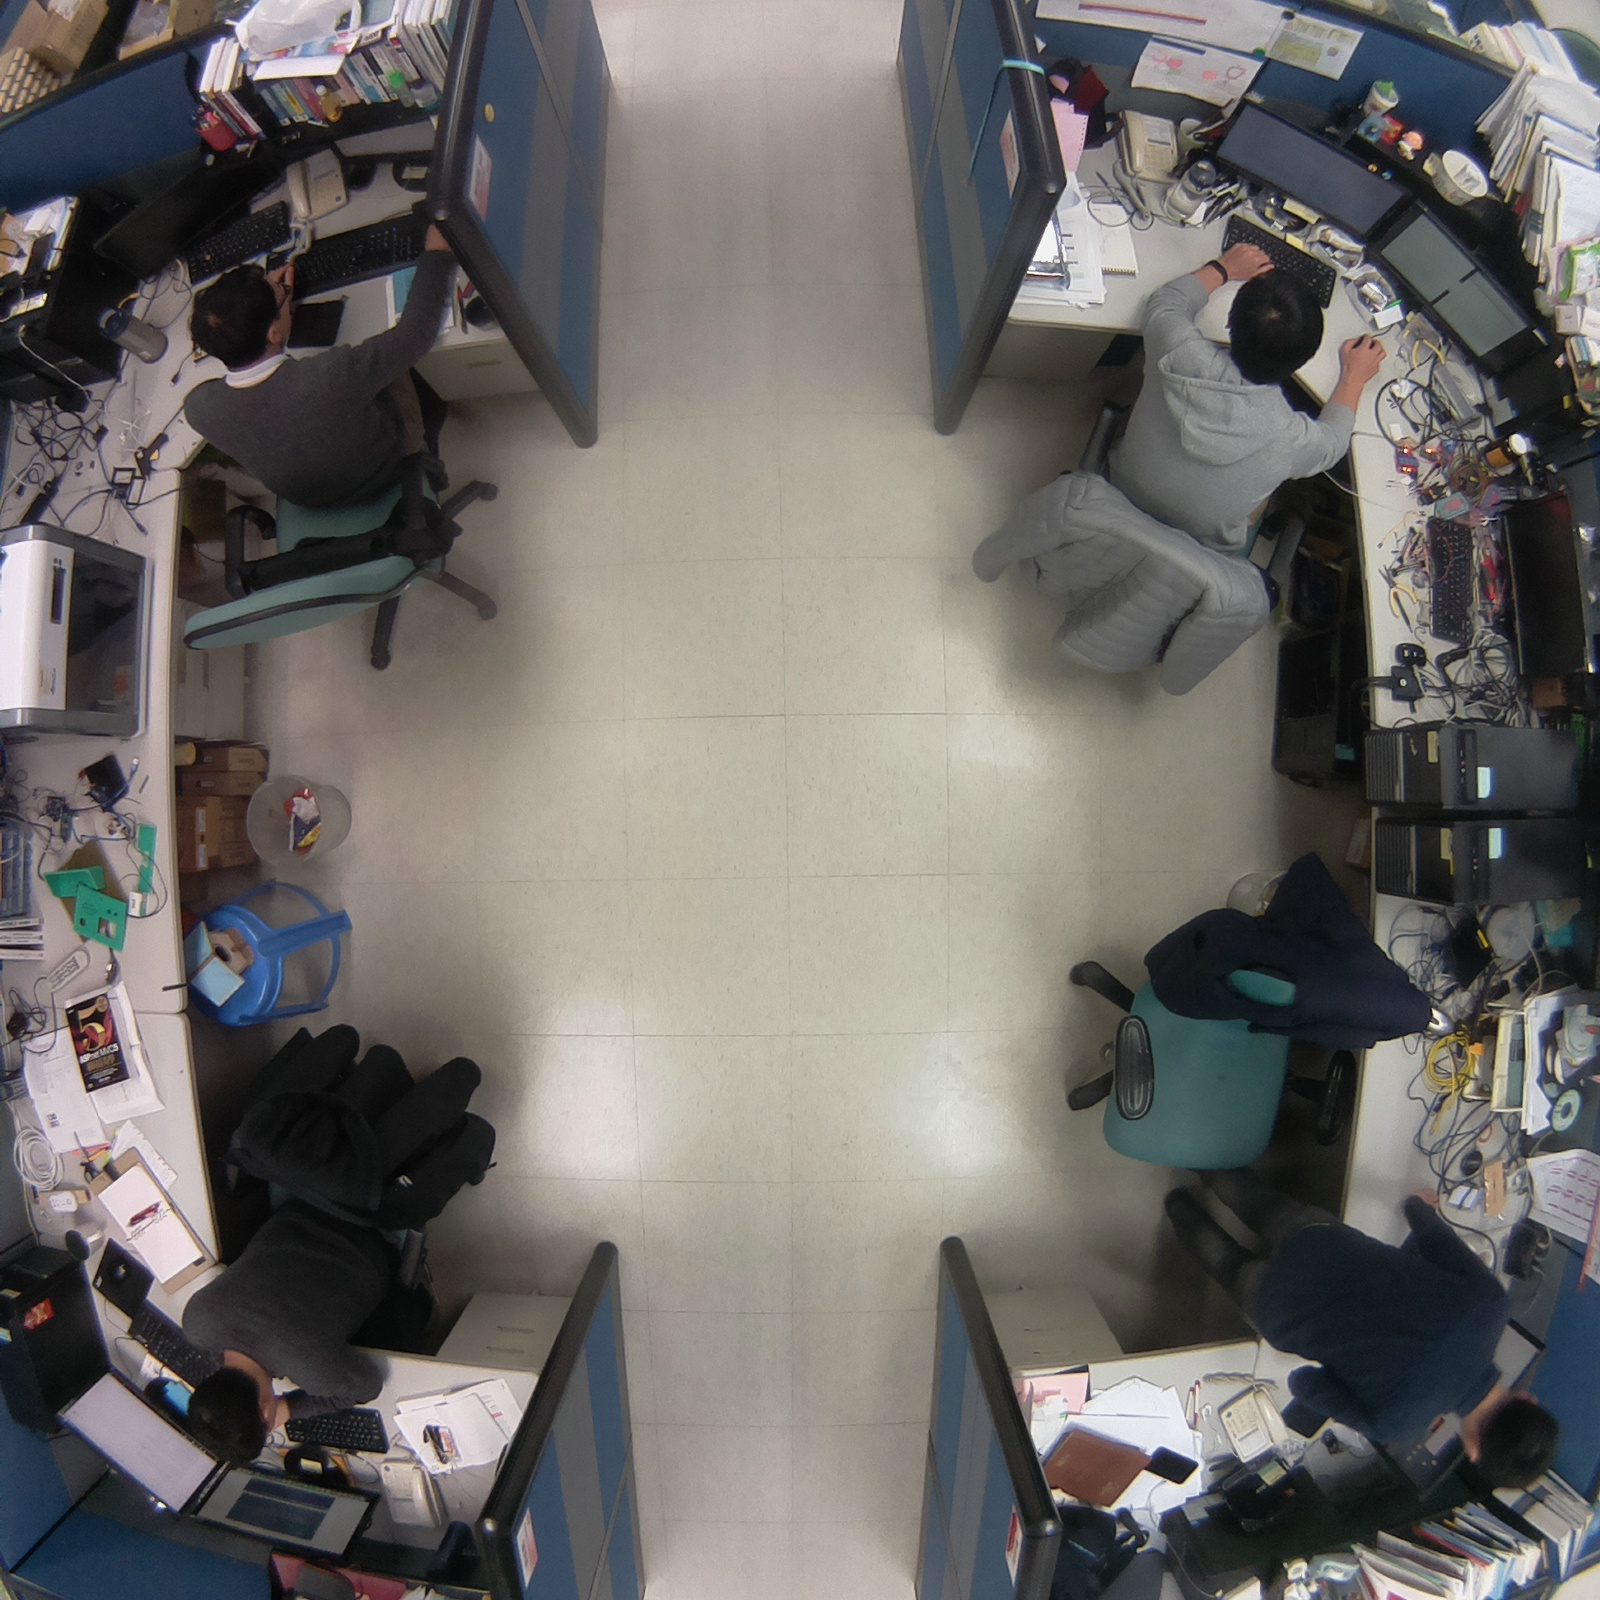chair: (1045, 845, 1460, 1186)
head: (1217, 268, 1336, 389), (176, 257, 295, 370), (180, 1353, 285, 1472), (1466, 1374, 1561, 1493)
sitting: (950, 247, 1358, 724), (164, 999, 517, 1466), (150, 257, 517, 696)
standing: (1144, 1147, 1561, 1497)
